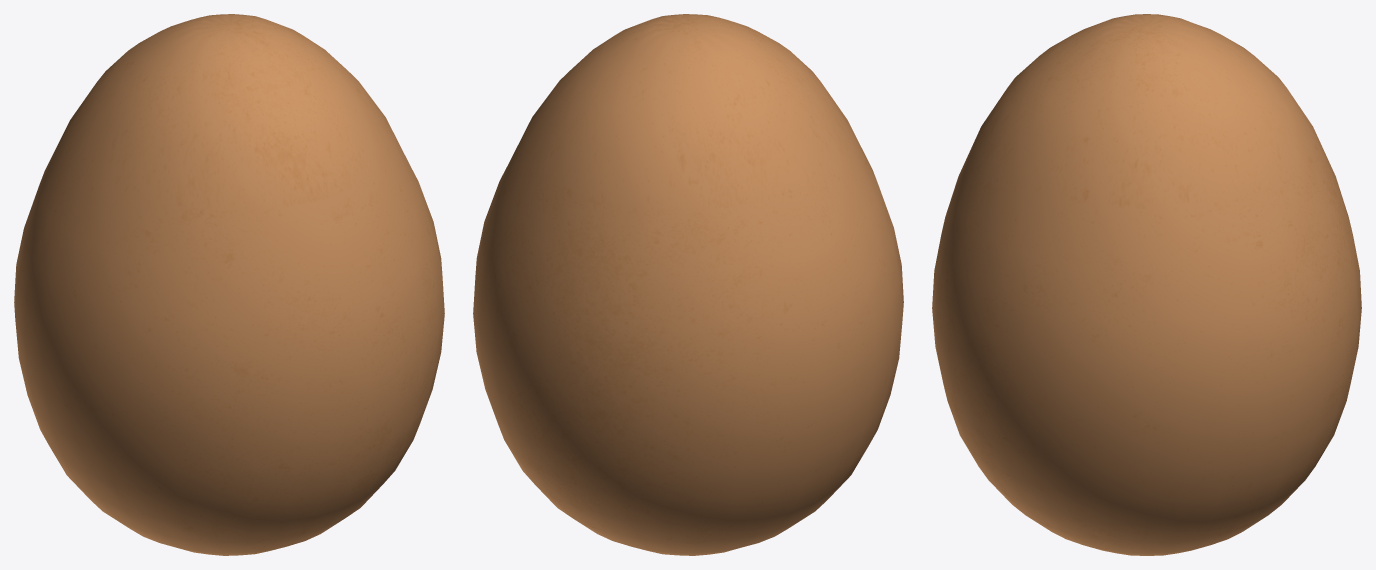
The model's file is eggDraco.glb.
3 renders of one model, left to right at view 1: azimuth 30°, elevation 25°; view 2: azimuth 150°, elevation 25°; view 3: azimuth 270°, elevation 25°, orthographic.
Visible parts, largest first — view 1: Sphere.001; view 2: Sphere.001; view 3: Sphere.001.
Part boxes in pixels (x1,y1,x2,y2): Sphere.001: (14, 14, 444, 555); Sphere.001: (473, 14, 903, 555); Sphere.001: (932, 14, 1361, 555).
Bounding box in the file's own units: 8.85 × 11.51 × 8.8.
1 material, 1 textured.
